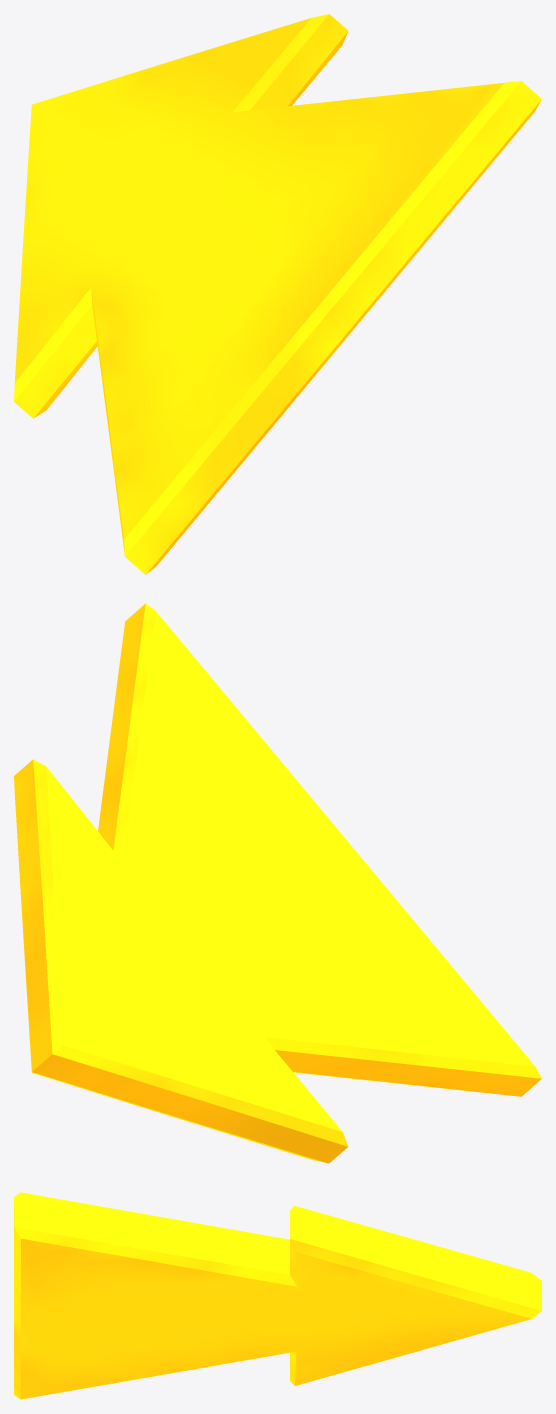
Rendered from L_Botom_Web.glb.
The picture shows the model from 3 angles, top to bottom: view 1: azimuth 30°, elevation 25°; view 2: azimuth 150°, elevation 25°; view 3: azimuth 270°, elevation 25°; orthographic projection. The views are drawn at different scales.
Visible parts, largest first — view 1: L_Button; view 2: L_Button; view 3: L_Button.
Part boxes in pixels (x1,y1,x2,y2): L_Button: (14,14,541,574); L_Button: (14,603,541,1163); L_Button: (14,1192,541,1399).
Bounding box in the file's own units: 0.00686 × 0.00632 × 0.0083.
1 material, 1 textured.
